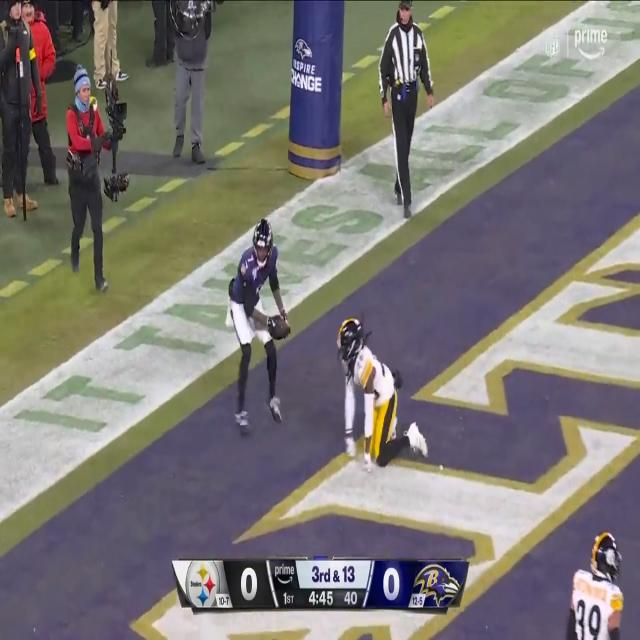Player: (220, 215, 290, 438), (334, 316, 428, 468), (560, 518, 631, 640)
Referee: (378, 0, 429, 227)
